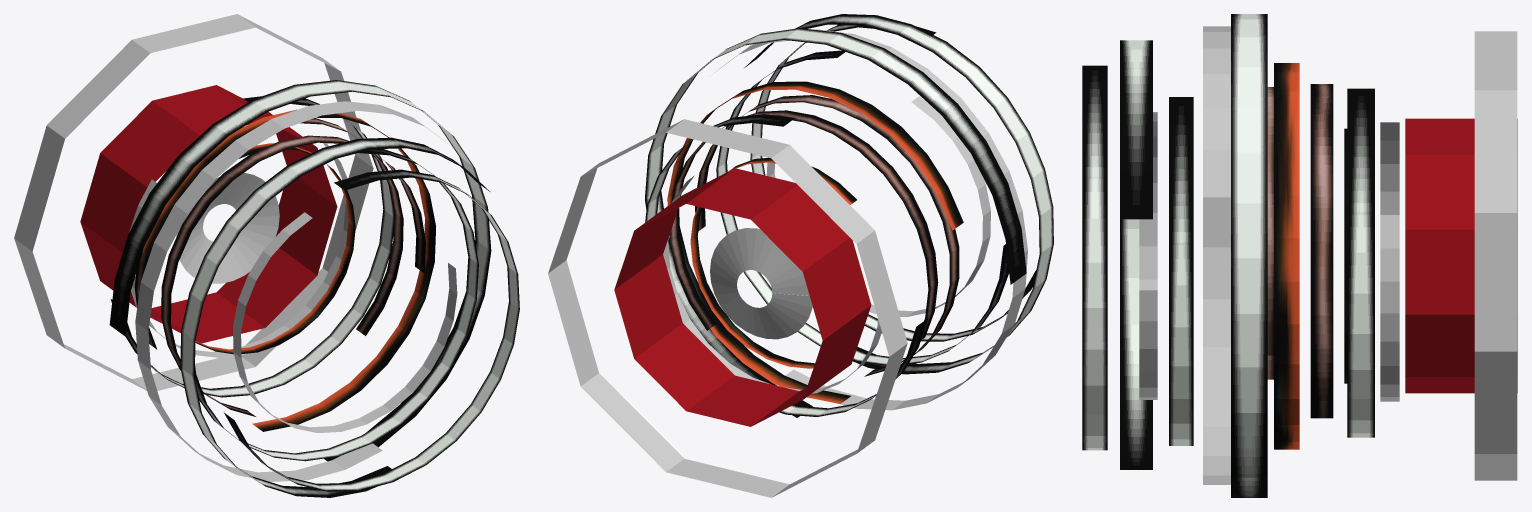
File: pet_fire_fire.obj
The picture shows the model from 3 angles, left to right: view 1: azimuth 30°, elevation 25°; view 2: azimuth 150°, elevation 25°; view 3: azimuth 270°, elevation 25°; orthographic projection. The views are drawn at different scales.
Visible parts, largest first — view 1: Cylinder01, Cylinder02, Plane11, Plane06, Plane12, Plane02, Plane09, Plane04, Plane07, Plane10, Plane05, Plane08 (+2 smaller); view 2: Cylinder01, Cylinder02, Plane11, Plane02, Plane12, Plane04, Plane03, Plane06, Plane05, Plane07, Plane10, Plane08 (+2 smaller); view 3: Cylinder02, Cylinder01, Plane11, Plane06, Plane12, Plane04, Plane09, Plane10, Plane07, Plane03, Plane01, Plane08 (+2 smaller).
Boxes of the visible parts, left/top/right/bottom form: Cylinder01: left=80, top=85, right=337, bottom=343; Cylinder02: left=14, top=14, right=373, bottom=390; Plane11: left=109, top=80, right=491, bottom=461; Plane06: left=135, top=101, right=447, bottom=481; Plane12: left=180, top=137, right=489, bottom=497; Plane02: left=176, top=143, right=355, bottom=354; Plane09: left=224, top=169, right=519, bottom=491; Plane04: left=142, top=109, right=435, bottom=431; Plane07: left=194, top=149, right=478, bottom=461; Plane10: left=111, top=96, right=393, bottom=397; Plane05: left=161, top=135, right=425, bottom=416; Plane08: left=233, top=212, right=457, bottom=432; Cylinder01: left=614, top=168, right=871, bottom=426; Cylinder02: left=548, top=119, right=907, bottom=497; Plane11: left=645, top=28, right=1026, bottom=417; Plane02: left=690, top=157, right=856, bottom=368; Plane12: left=744, top=14, right=1053, bottom=374; Plane04: left=667, top=81, right=963, bottom=403; Plane03: left=669, top=110, right=938, bottom=340; Plane06: left=716, top=29, right=1027, bottom=410; Plane05: left=695, top=95, right=959, bottom=376; Plane07: left=716, top=50, right=1009, bottom=365; Plane10: left=645, top=114, right=928, bottom=416; Plane08: left=766, top=96, right=990, bottom=316; Cylinder02: left=1474, top=31, right=1517, bottom=480; Cylinder01: left=1405, top=118, right=1517, bottom=393; Plane11: left=1231, top=14, right=1267, bottom=497; Plane06: left=1203, top=26, right=1230, bottom=484; Plane12: left=1120, top=40, right=1152, bottom=469; Plane04: left=1274, top=63, right=1299, bottom=449; Plane09: left=1082, top=65, right=1107, bottom=450; Plane10: left=1347, top=88, right=1374, bottom=437; Plane07: left=1169, top=97, right=1193, bottom=445; Plane03: left=1310, top=84, right=1333, bottom=418; Plane01: left=1380, top=122, right=1399, bottom=401; Plane08: left=1139, top=112, right=1157, bottom=399.
Bounding box in the file's own units: 80.25 × 79.75 × 71.91.
